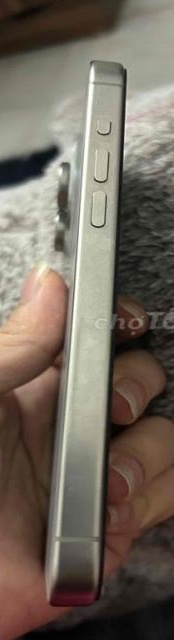scratch: (75, 297, 99, 430), (55, 468, 94, 498)
